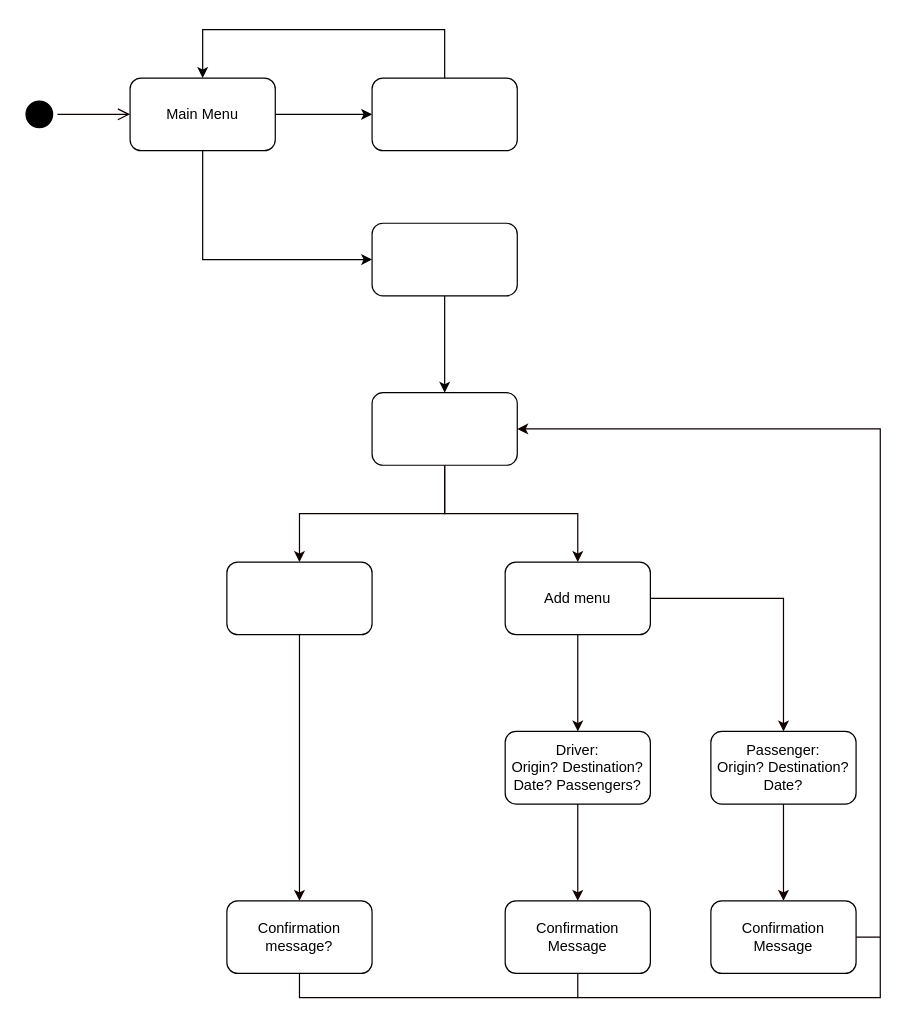
This 911x1020 diagram has some shape labels left out. The shapes that lost their labels are listed below. From the top down, each one's centre as x and y in pixels, then its label:
At pixel 444 114: "RegisterClient".
At pixel 444 259: "login".
At pixel 444 428: "Client menu: Get Rides Get Requests".
At pixel 299 598: "Del menu".
